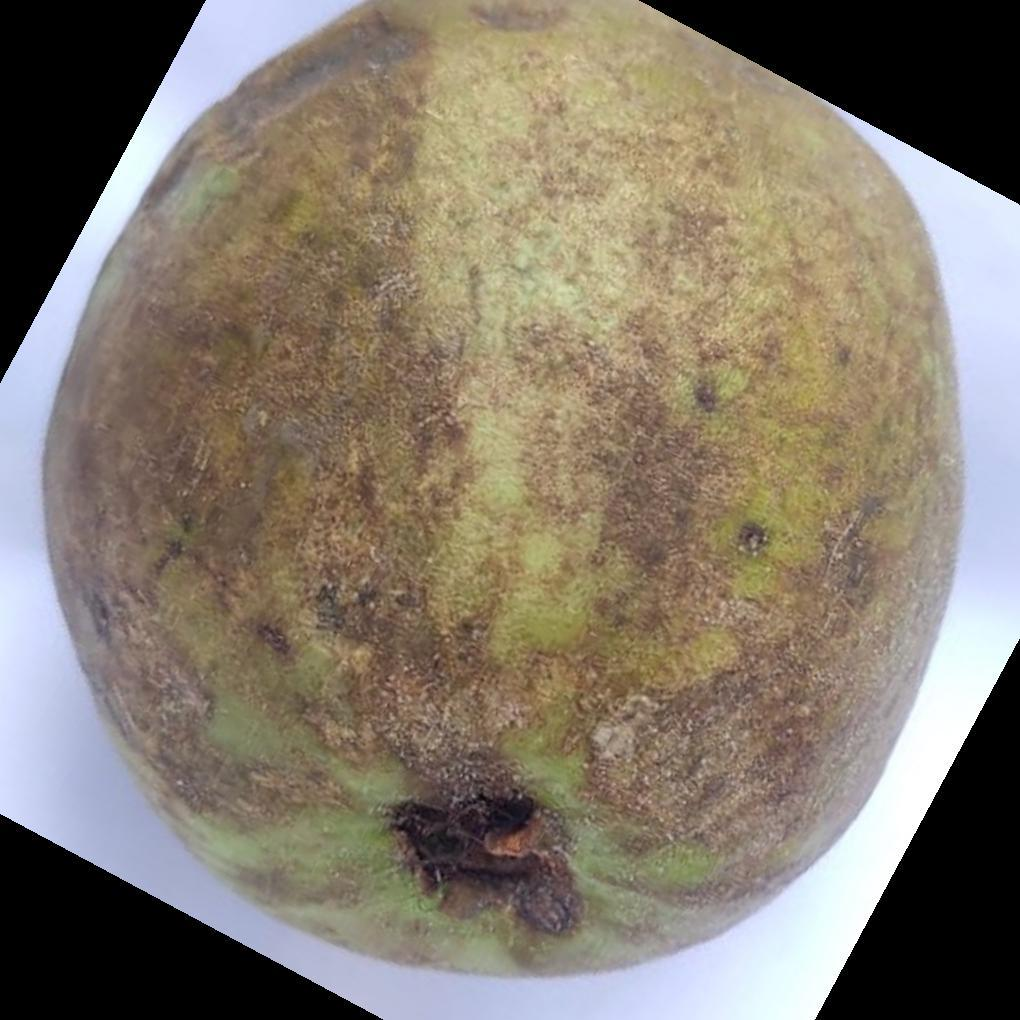FreshOrange: (37, 0, 968, 984)
